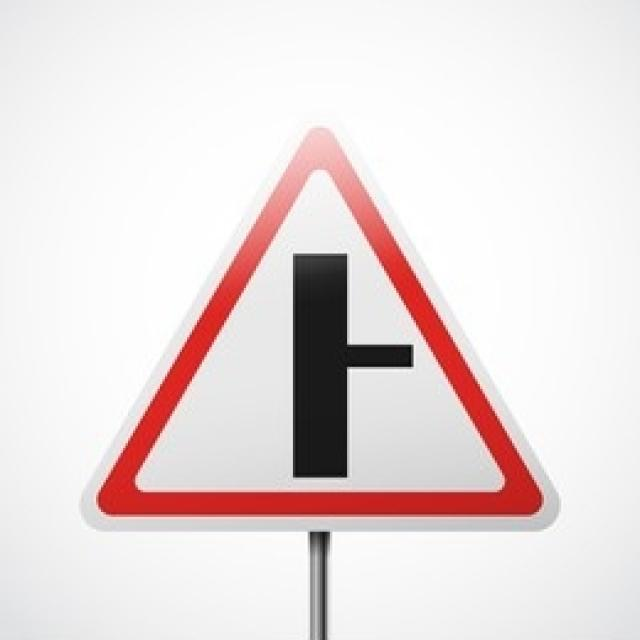side road right: (95, 130, 547, 521)
